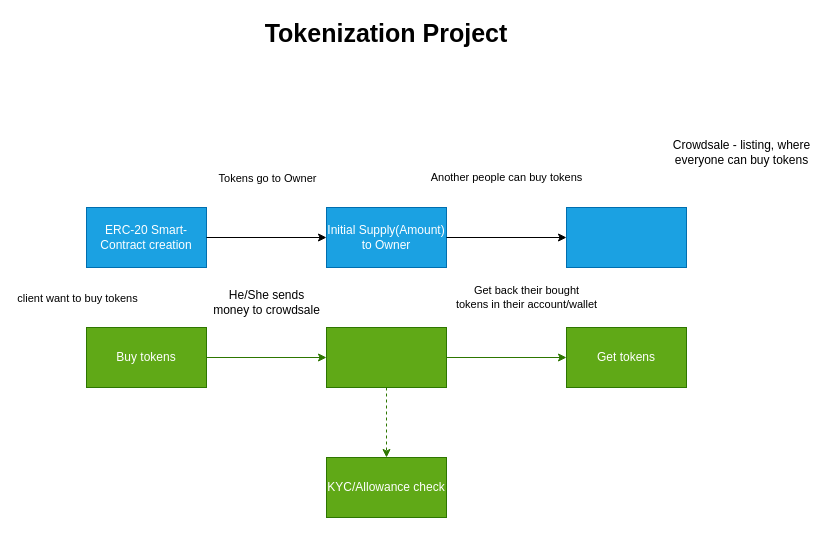
This 834x535 diagram has some shape labels left out. Here are the shapes that lost their labels. From the top down, the centre of each, then its label:
(x=626, y=237): Initial Supply Crowdsale Contract
(x=386, y=357): Send money to Crowdsale contract
